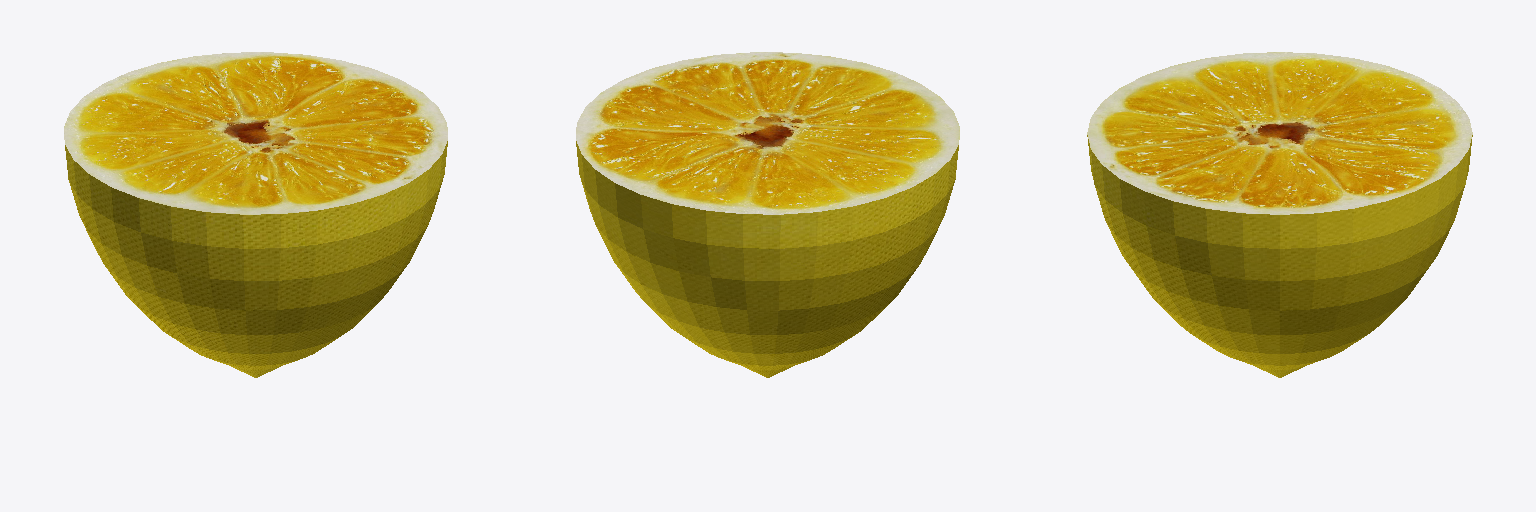
3 views of the same model, side by side, from view 1: azimuth 30°, elevation 25°; view 2: azimuth 150°, elevation 25°; view 3: azimuth 270°, elevation 25° (orthographic).
Visible parts, largest first — view 1: Sphere01; view 2: Sphere01; view 3: Sphere01.
Boxes of the visible parts, box(x1,y1,x2,y2) form: Sphere01: box(64, 52, 447, 377); Sphere01: box(576, 52, 959, 377); Sphere01: box(1087, 52, 1472, 377).
Size of the model in its own units: 55.21 by 38.73 by 55.21.
Materials: 2 (2 with a texture image).